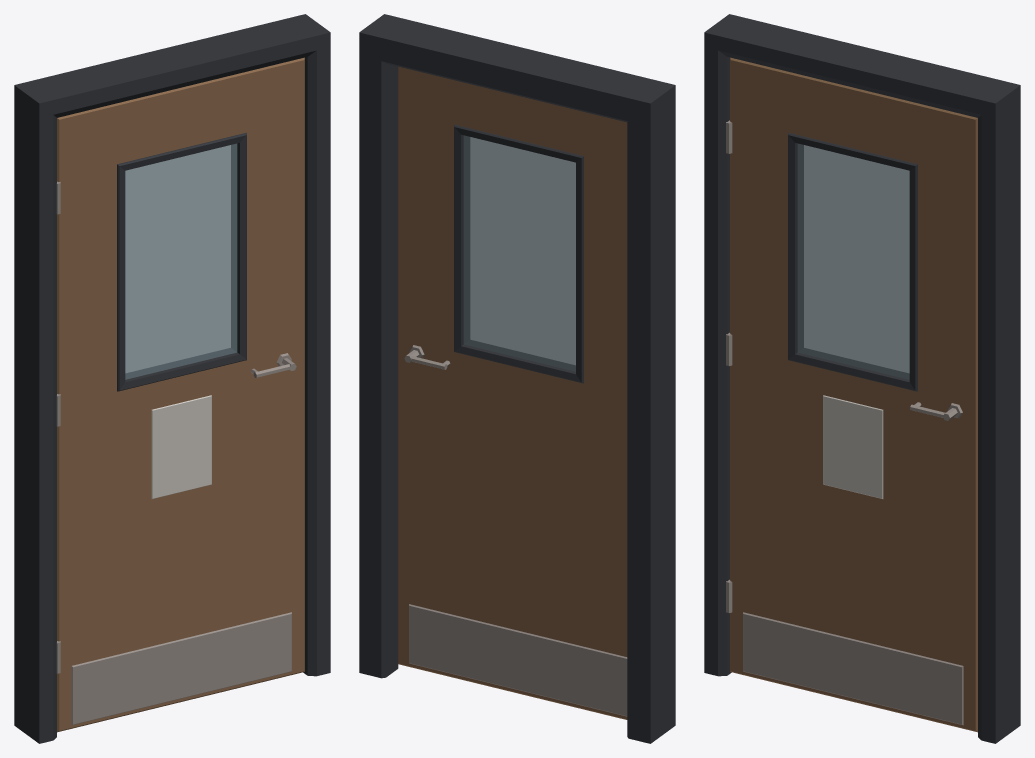
The model's file is door-set-single-04e5f0.glb.
3 renders of one model, left to right at view 1: azimuth 30°, elevation 25°; view 2: azimuth 150°, elevation 25°; view 3: azimuth 330°, elevation 25°, orthographic.
Parts seen in each view (by area): view 1: leaf, frame, leaf-glass; view 2: leaf, frame, leaf-glass; view 3: leaf, frame, leaf-glass.
Boxes of the visible parts, x1,y1,x2,y2 form: leaf: (56, 57, 304, 732); frame: (14, 14, 330, 743); leaf-glass: (125, 143, 237, 379); leaf: (398, 66, 627, 719); frame: (359, 14, 675, 743); leaf-glass: (463, 135, 575, 371); leaf: (726, 57, 977, 732); frame: (704, 14, 1020, 743); leaf-glass: (797, 143, 909, 379).
Size of the model in its own units: 1 by 2.1 by 0.184.
